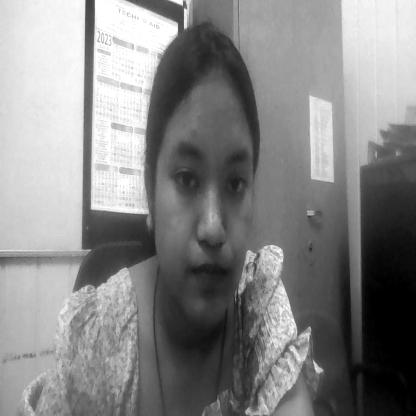Normal: (164, 92, 251, 320)
